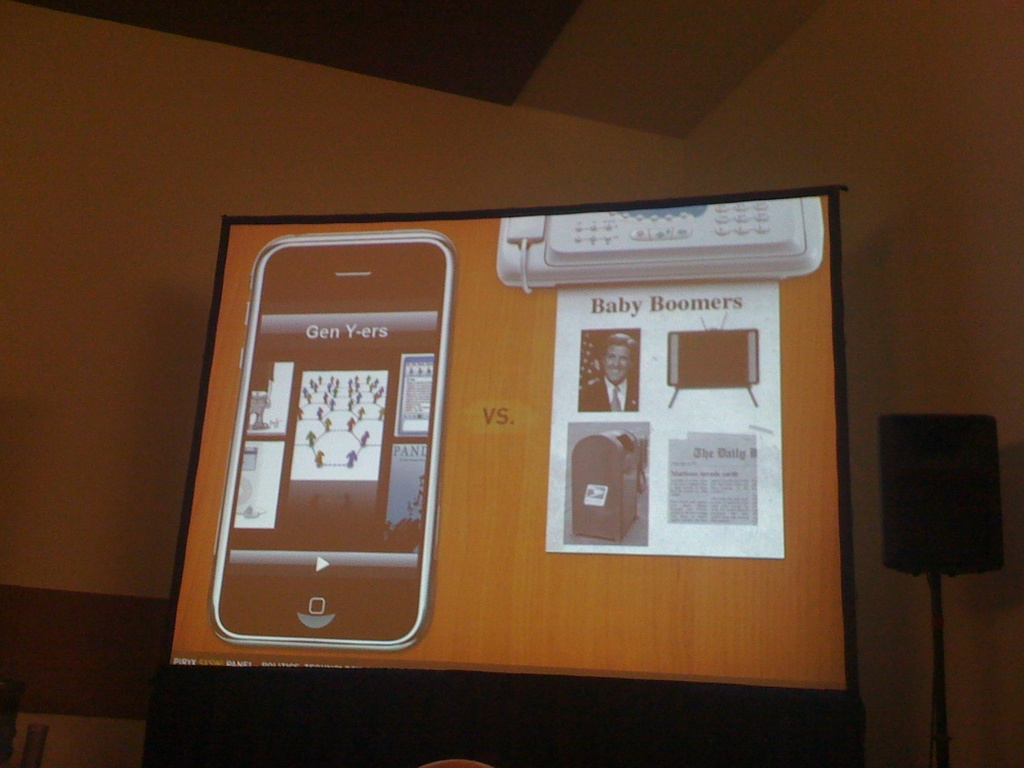Mobile-phone: (203, 232, 459, 645)
